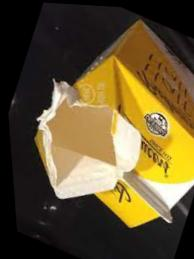cardboard: (10, 3, 193, 258)
